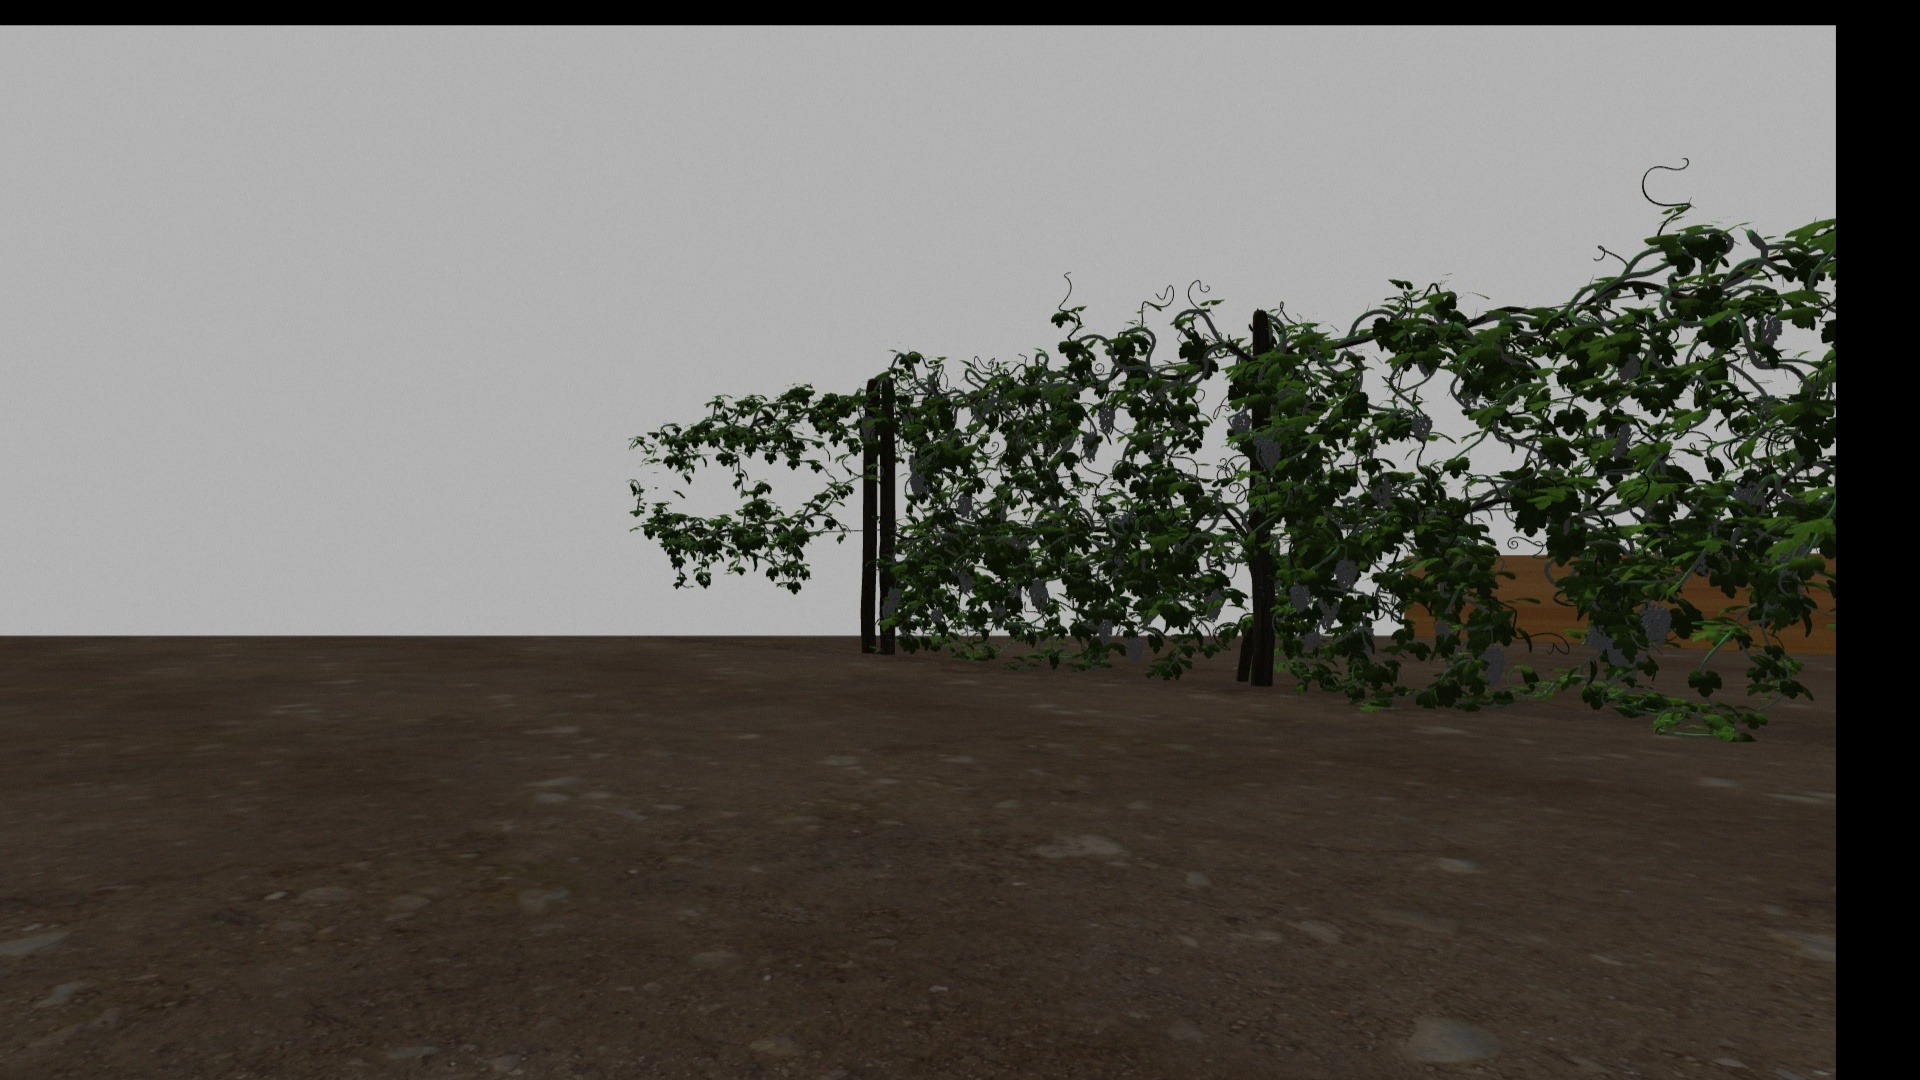grape: (1639, 601, 1671, 646), (1476, 646, 1506, 688), (1753, 314, 1782, 351), (1254, 431, 1282, 467), (1317, 595, 1340, 633), (1332, 559, 1358, 591), (1369, 473, 1393, 508), (907, 460, 928, 498), (1203, 585, 1225, 621), (1026, 579, 1050, 612), (1286, 583, 1309, 613), (1617, 353, 1640, 381), (1229, 411, 1251, 440), (1606, 640, 1629, 669), (1584, 622, 1607, 649), (1410, 414, 1432, 440), (1124, 633, 1145, 661), (1081, 433, 1101, 462), (881, 588, 901, 616), (1098, 406, 1116, 434), (957, 568, 975, 596), (953, 495, 973, 516), (861, 415, 876, 443), (928, 607, 944, 624)
